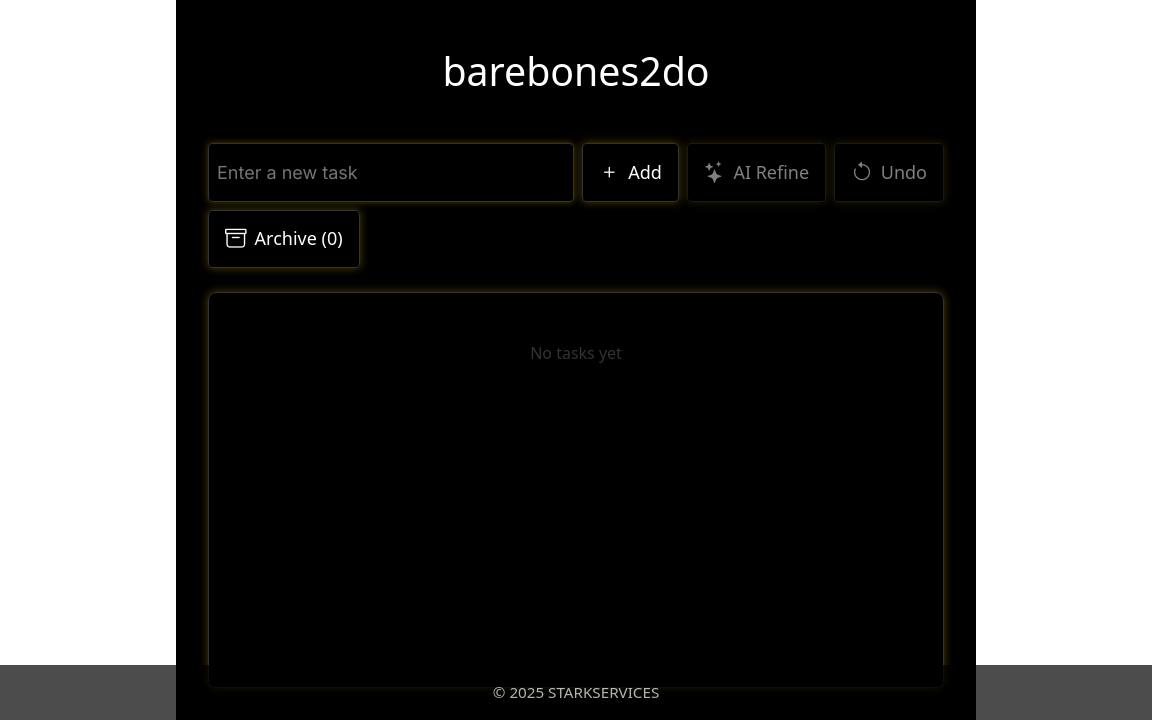
Test: adds a task and displays it
The width and height of the screenshot is (1152, 720).
In the field with placeholder "Enter a new task": (391, 172) [208,143,574,202], type "Test Task"
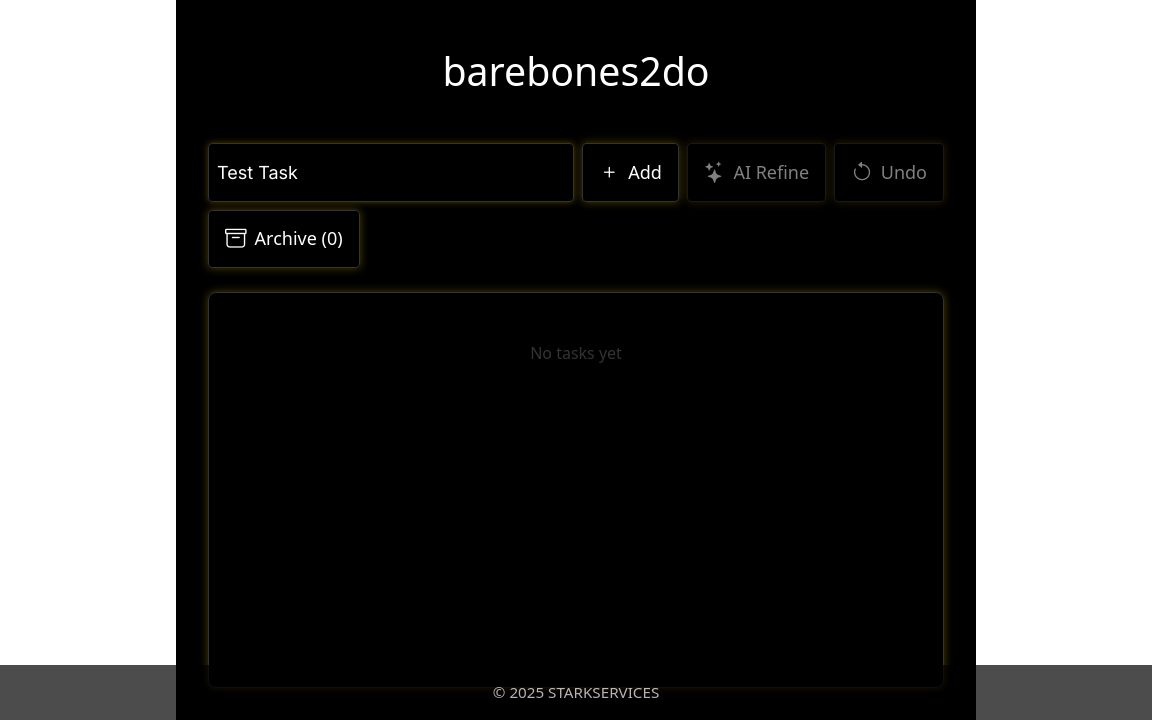
Click the button "Add": (630, 172) [582,143,679,202]
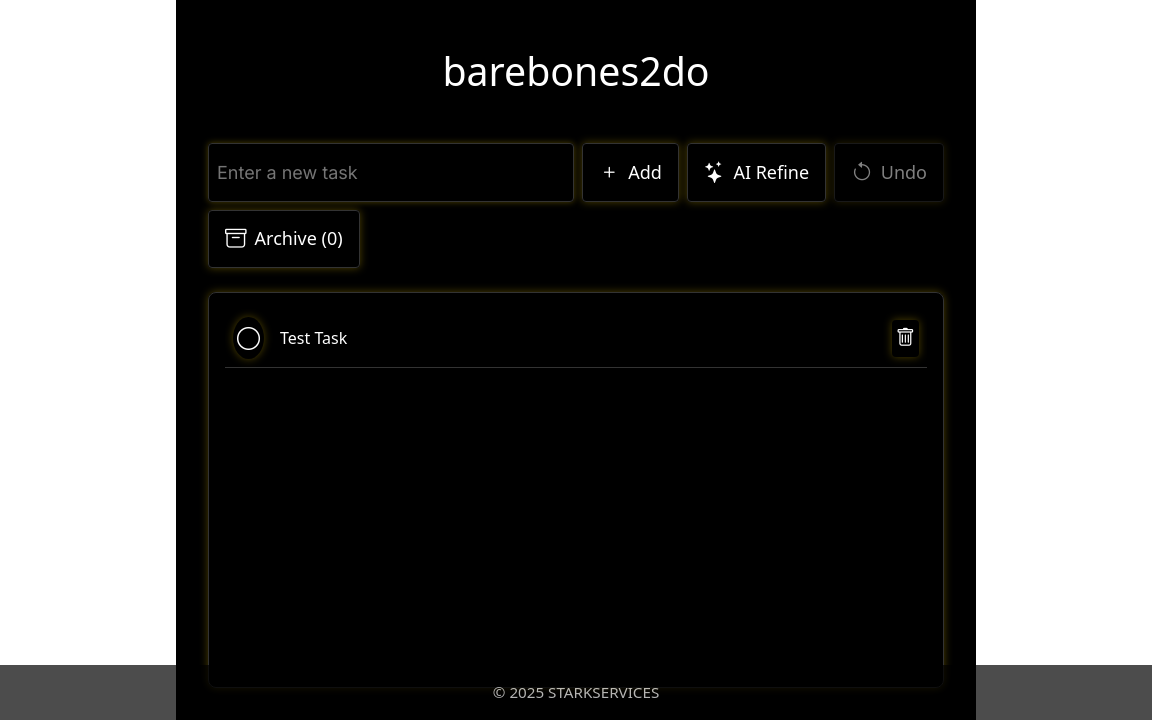
Expected: the text "Test Task" is shown, [280,327,347,349]
